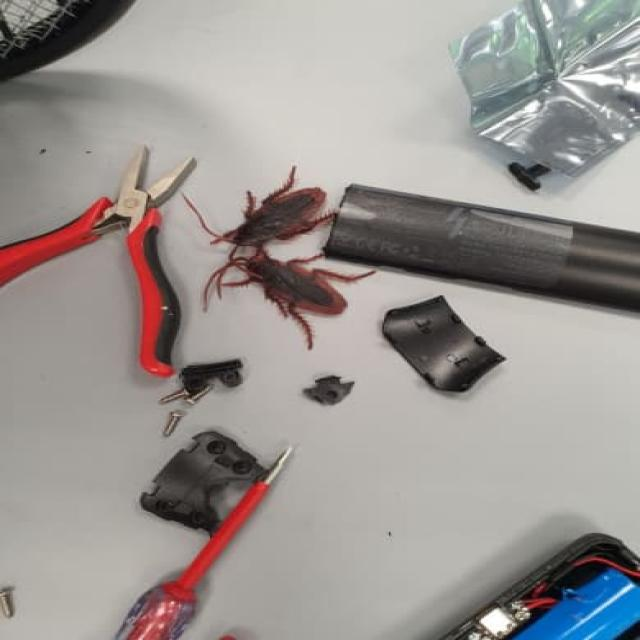Cockroach: (207, 233, 380, 353), (186, 168, 356, 252)
